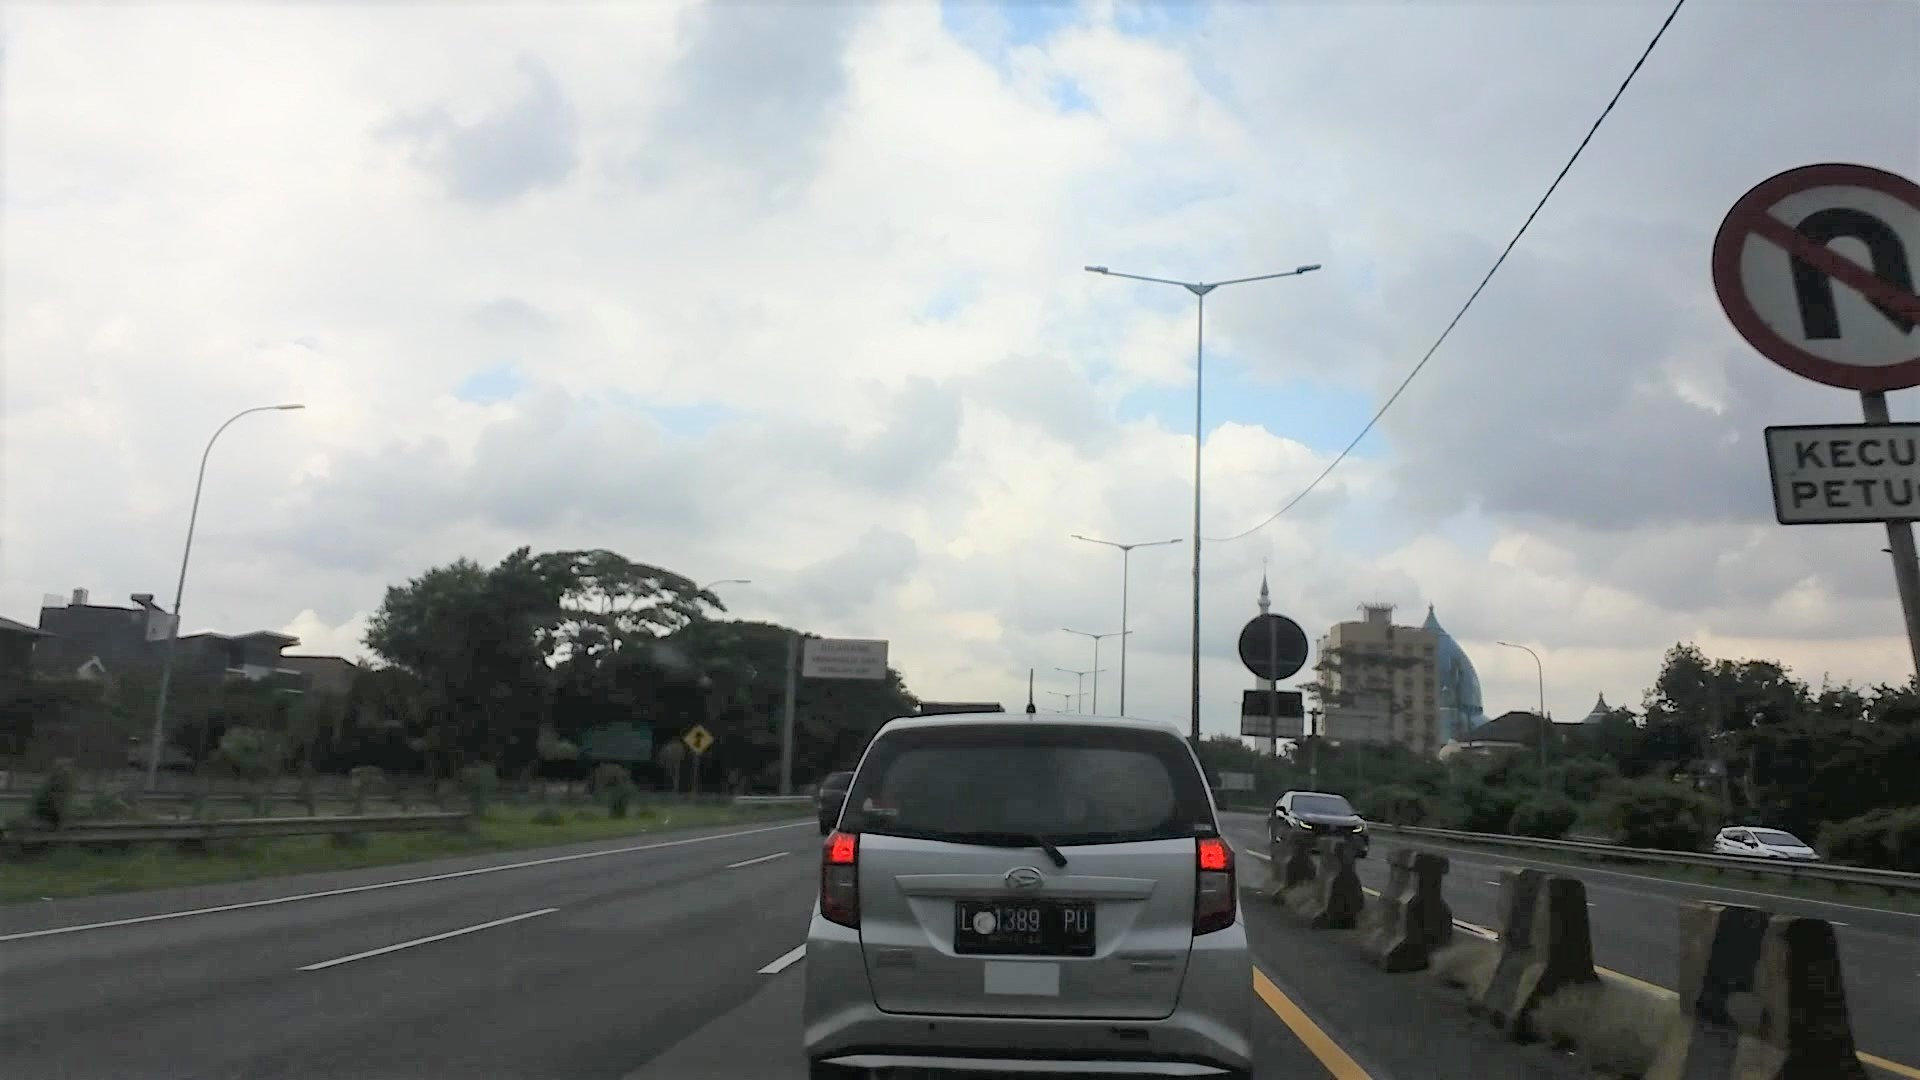plate_positive: (953, 899, 1096, 956)
